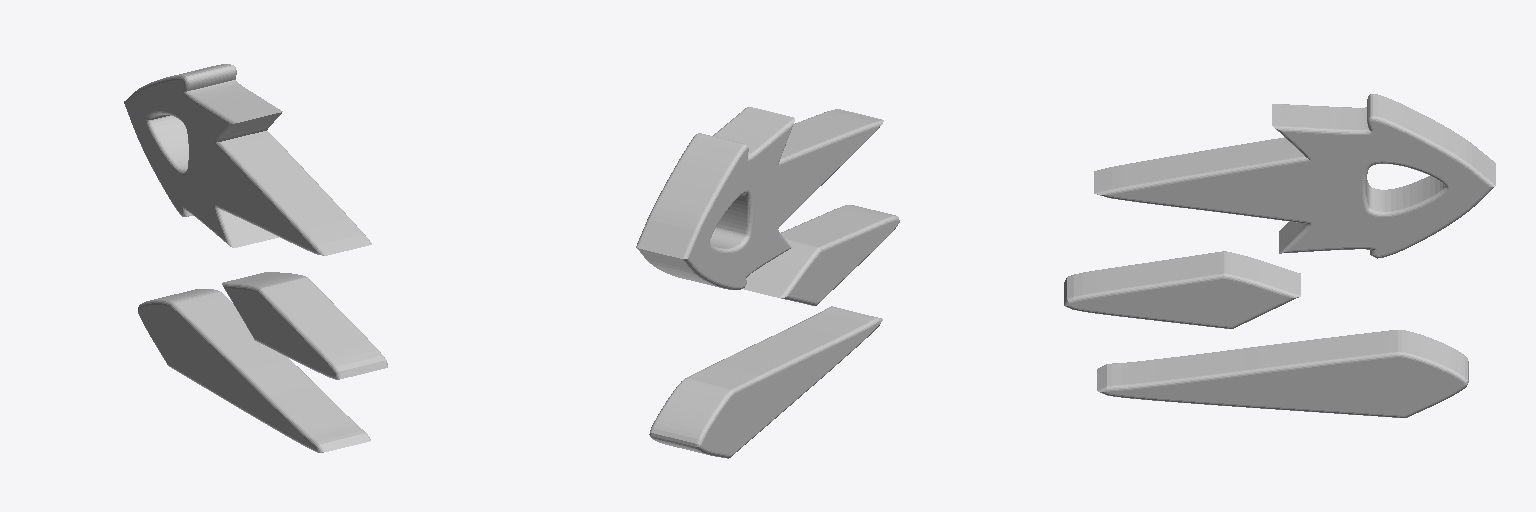
File: rapidfire_icon.obj
3 views of the same model, side by side, from view 1: azimuth 30°, elevation 25°; view 2: azimuth 150°, elevation 25°; view 3: azimuth 270°, elevation 25° (orthographic).
Parts seen in each view (by area): view 1: Curve.031; view 2: Curve.031; view 3: Curve.031.
Boxes of the visible parts, box(x1,y1,x2,y2) form: Curve.031: box(124, 64, 387, 452); Curve.031: box(636, 107, 899, 458); Curve.031: box(1064, 94, 1495, 417).
Size of the model in its own units: 0.0014 by 0.0078 by 0.0101.